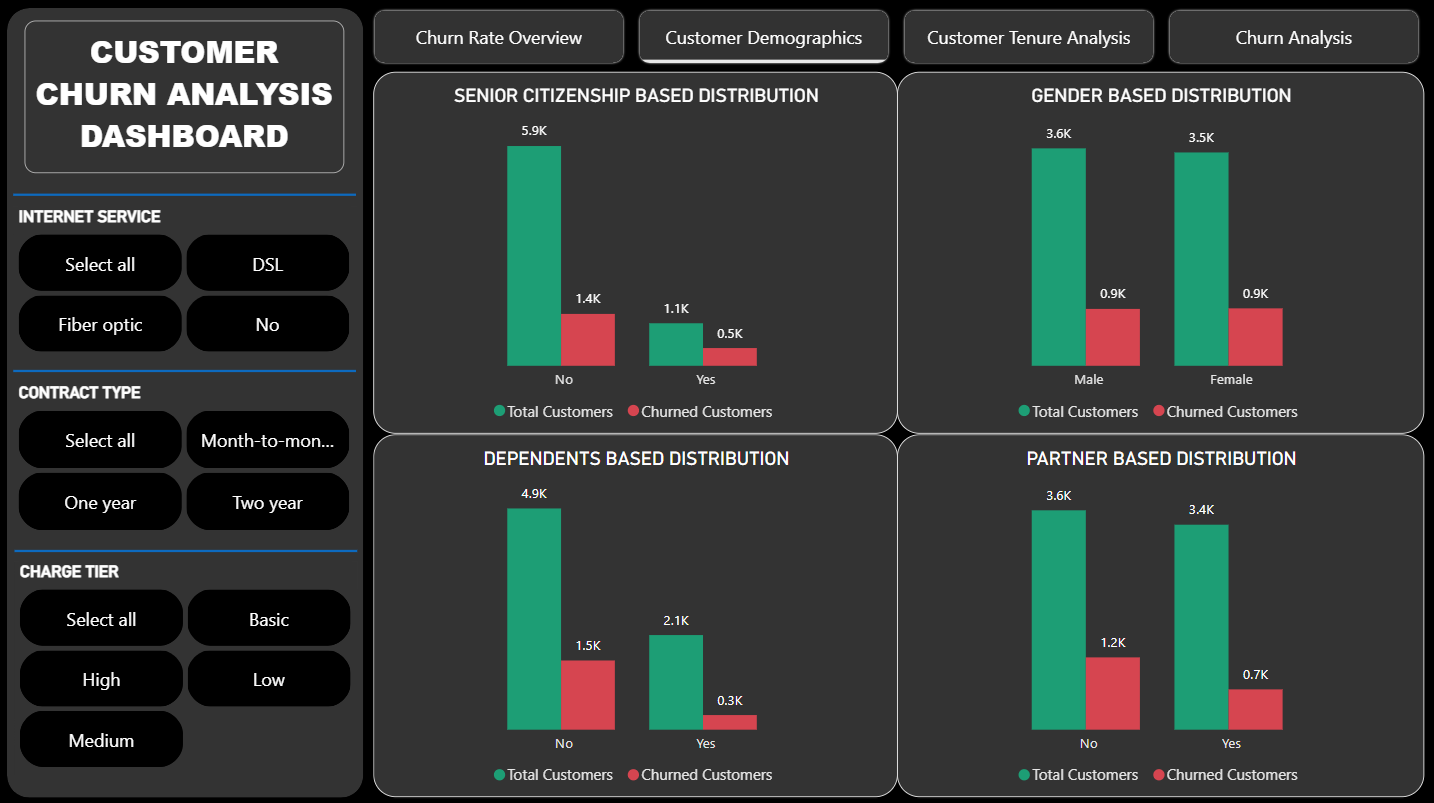

The dashboard page shown, as its layout file describes it:
{"tool":"powerbi","page":{"name":"Customer Demographics","canvas":[1280,720],"ordinal":1},"visuals":[{"type":"pageNavigator","box":[334.2,8.4,936.2,51.9],"z":0},{"type":"shape","box":[8.4,8.4,317.3,703.4],"z":1000},{"type":"textbox","box":[24.1,20.5,284.7,136.3],"z":7000},{"type":"shape","box":[14.5,148.4,305.2,54.3],"z":8000},{"type":"clusteredColumnChart","title":"DEPENDENTS BASED DISTRIBUTION","fields":{"Category":["TelcoCustomerData.Dependents"],"Y":["TelcoCustomerData.Total_Customers","TelcoCustomerData.Churned_Customers"]},"box":[334.7,388.4,467,323.4],"z":10000},{"type":"clusteredColumnChart","title":"SENIOR CITIZENSHIP BASED DISTRIBUTION","fields":{"Category":["TelcoCustomerData.SeniorCitizen"],"Y":["TelcoCustomerData.Total_Customers","TelcoCustomerData.Churned_Customers"]},"box":[334.7,66.2,467,322.2],"z":11001},{"type":"clusteredColumnChart","title":"GENDER BASED DISTRIBUTION","fields":{"Category":["TelcoCustomerData.gender"],"Y":["TelcoCustomerData.Total_Customers","TelcoCustomerData.Churned_Customers"]},"box":[801.7,66.2,469.5,322.2],"z":11002},{"type":"clusteredColumnChart","title":"PARTNER BASED DISTRIBUTION","fields":{"Y":["TelcoCustomerData.Total_Customers","TelcoCustomerData.Churned_Customers"],"Category":["TelcoCustomerData.Partner"]},"box":[801.7,388.4,469.5,323.4],"z":11003},{"type":"advancedSlicerVisual","title":"INTERNET SERVICE","fields":{"Values":["TelcoCustomerData.InternetService"]},"box":[14.5,185.8,305.2,135.1],"z":11004},{"type":"advancedSlicerVisual","title":"CONTRACT TYPE","fields":{"Values":["TelcoCustomerData.Contract"]},"box":[14.5,342.6,305.2,136.3],"z":11005},{"type":"advancedSlicerVisual","title":"CHARGE TIER","fields":{"Values":["TelcoCustomerData.MonthlyChargeTier"]},"box":[15.7,501.9,305.2,189.4],"z":11006},{"type":"shape","box":[14.5,305.2,305.2,54.3],"z":11007},{"type":"shape","box":[15.7,465.7,305.2,54.3],"z":11008}]}

Visuals, with their boxes in screenshot pixels (x1, y1, x2, y2), scaled from the page's 1280x720 canvas onto the 1434x803 screenshot:
pageNavigator: 374 9 1423 67
shape: 9 9 365 794
textbox: 27 23 346 175
shape: 16 166 358 226
"DEPENDENTS BASED DISTRIBUTION" clusteredColumnChart: 375 433 898 794
"SENIOR CITIZENSHIP BASED DISTRIBUTION" clusteredColumnChart: 375 74 898 433
"GENDER BASED DISTRIBUTION" clusteredColumnChart: 898 74 1424 433
"PARTNER BASED DISTRIBUTION" clusteredColumnChart: 898 433 1424 794
"INTERNET SERVICE" advancedSlicerVisual: 16 207 358 358
"CONTRACT TYPE" advancedSlicerVisual: 16 382 358 534
"CHARGE TIER" advancedSlicerVisual: 18 560 360 771
shape: 16 340 358 401
shape: 18 519 360 580
